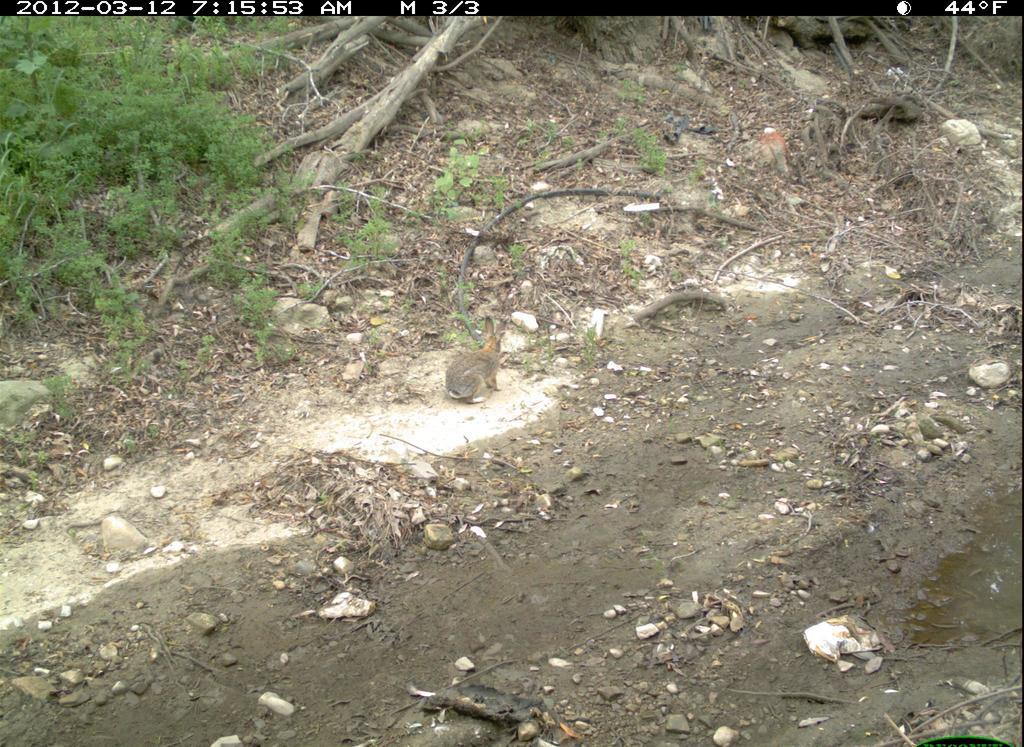rabbit: (440, 313, 513, 414)
